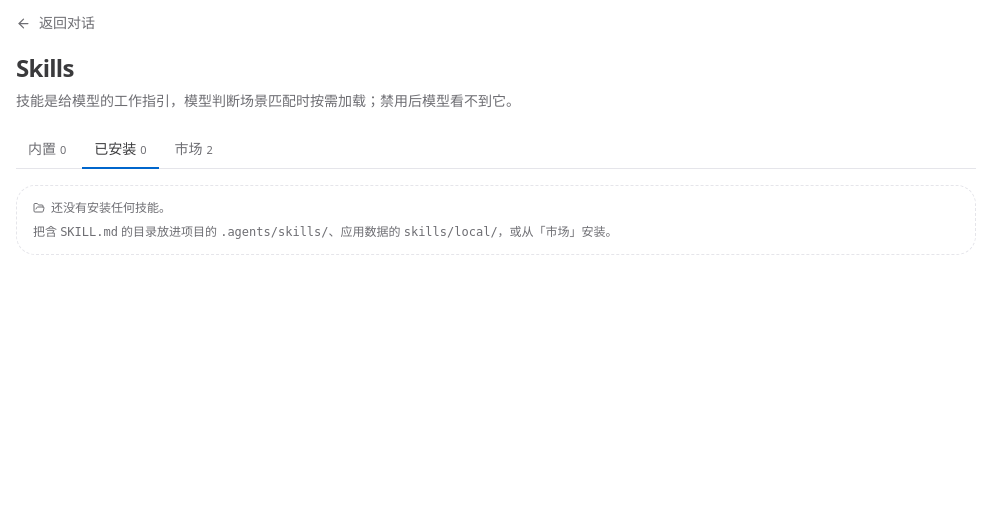
Test case: SkillsPage › 市场清单渲染卡片，可按名称/标签搜索
This screenshot has width=993, height=528.
Click the tab "市场2". click: (194, 150)
box: [163,131,225,169]
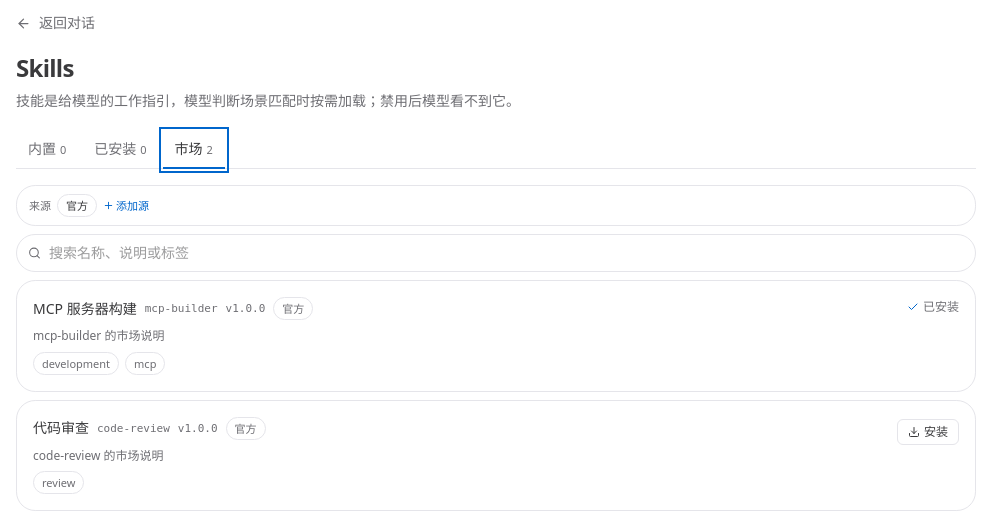
Expected: the text "MCP 服务器构建" is shown, [33,299,137,319]
Expected: the text "代码审查" is shown, [33,418,89,438]
Expected: the text "已安装" is shown, [907,299,959,315]
Type "review" into the field named "搜索市场技能". click: (496, 253)
box: [16,234,976,272]
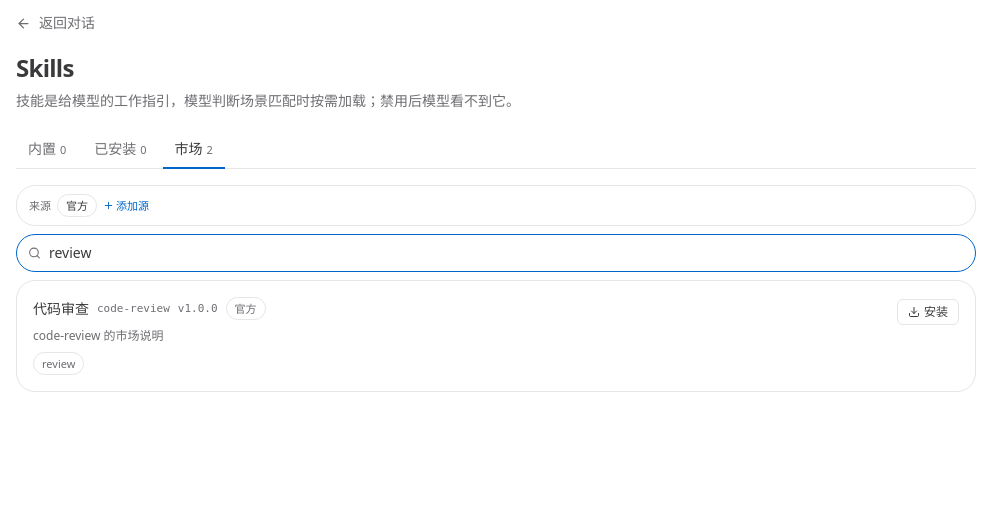
Expected: the text "代码审查" is shown, [33,299,89,319]
Expected: the text "MCP 服务器构建" is gone
Replace the text in the field named "搜索市场技能" with "zzz". click: (496, 253)
box: [16,234,976,272]
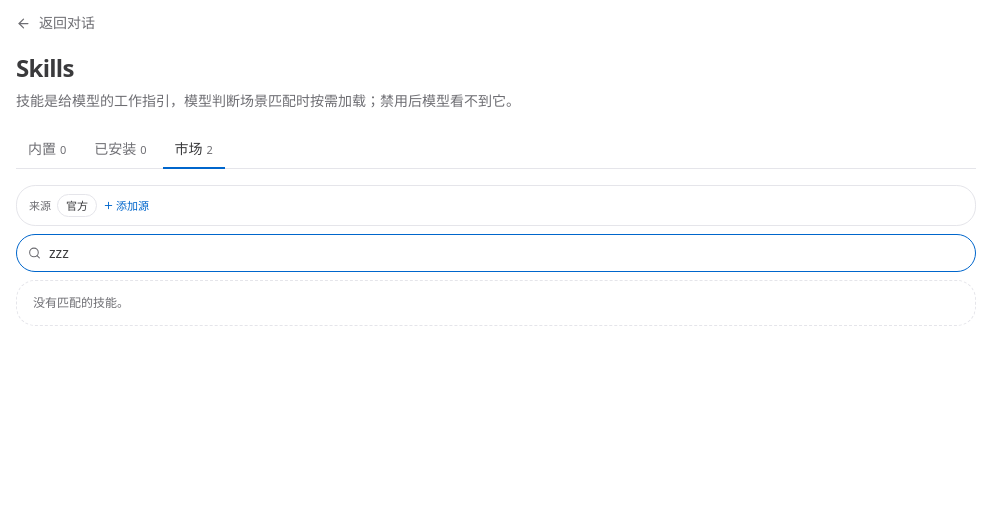
Expected: the text "没有匹配的技能。" is shown, [16,280,976,326]
